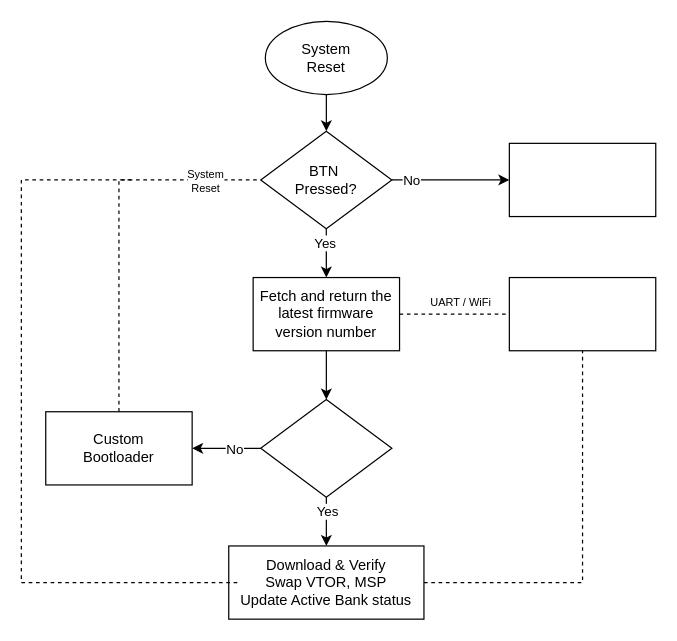
Some shapes in this 677 by 641 pixel diagram are drawn without their labels. The centre of each missing label's shape, as x and y in pixels:
"Execute Active Bank Binaries" goes at (x=582, y=179).
"User require update?" goes at (x=325, y=447).
"Web Server (WiFi) or PC Application" goes at (x=582, y=313).
